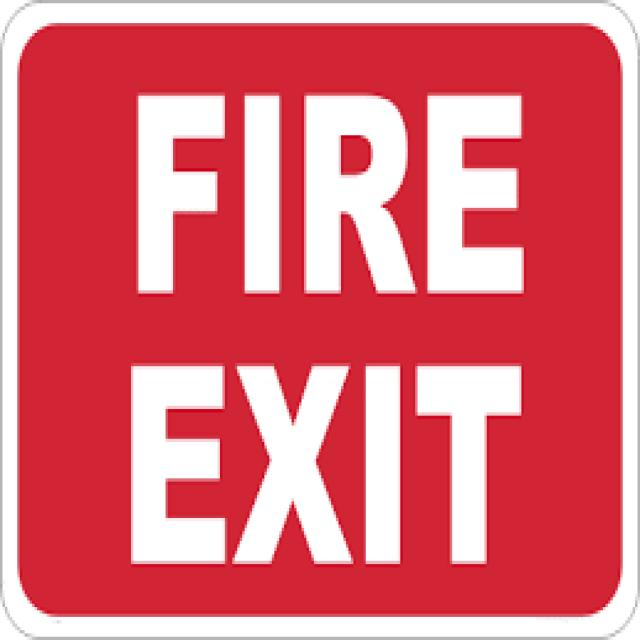exit_sign: (19, 21, 624, 615)
